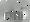person: (22, 8, 28, 21), (15, 9, 21, 20), (6, 13, 11, 22)
